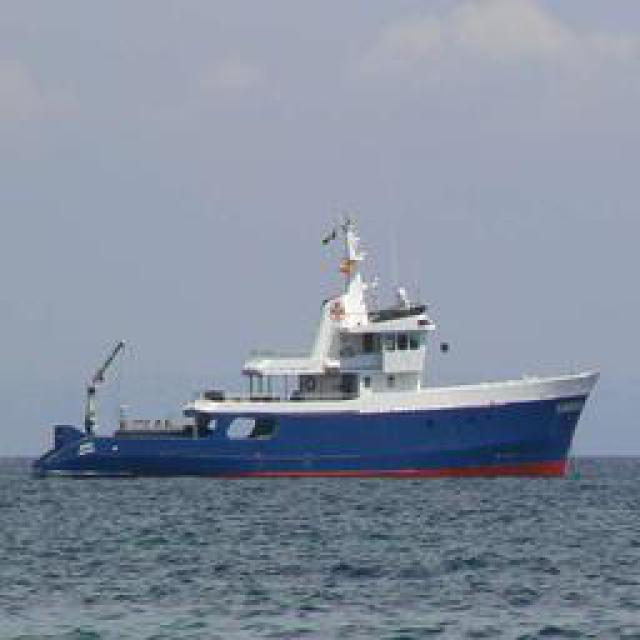Ship: (39, 218, 602, 483)
